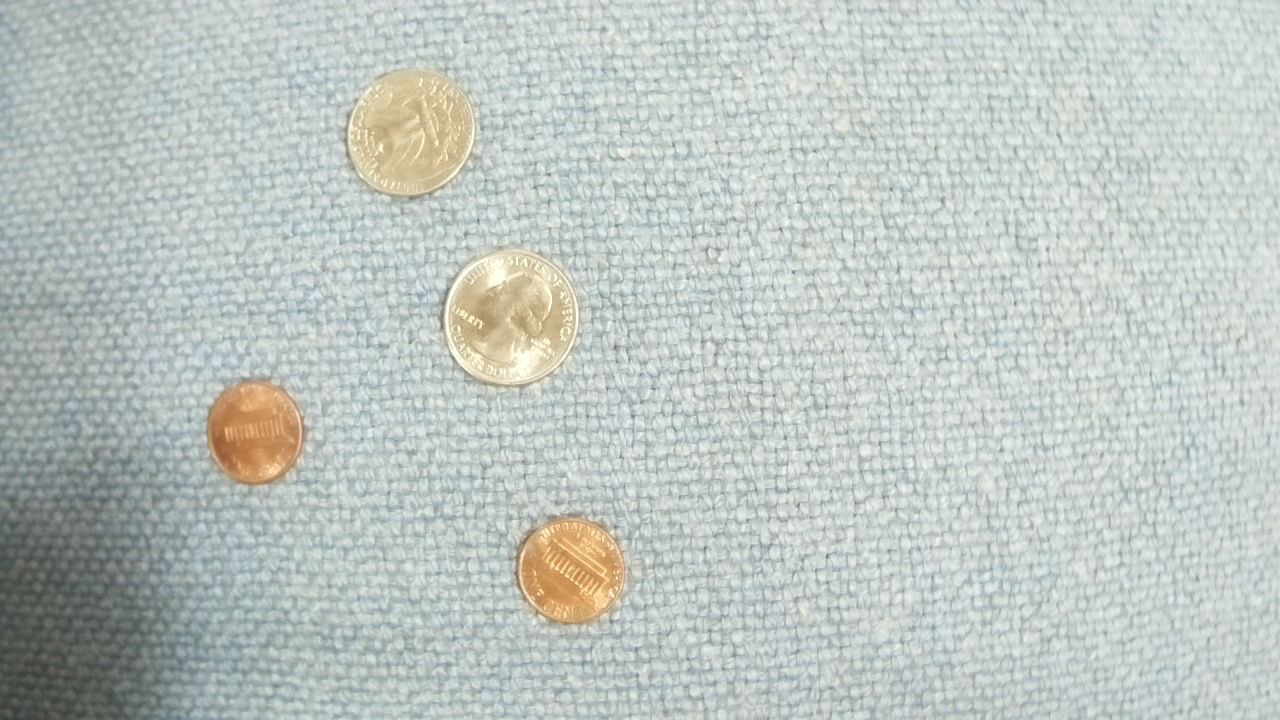penny: (515, 513, 628, 626), (208, 380, 306, 484)
quarter: (441, 247, 580, 390), (344, 67, 477, 200)
